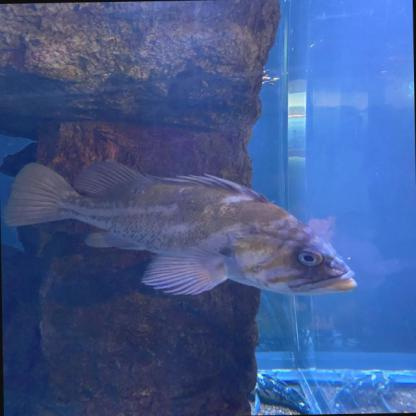fish: (8, 152, 370, 298)
